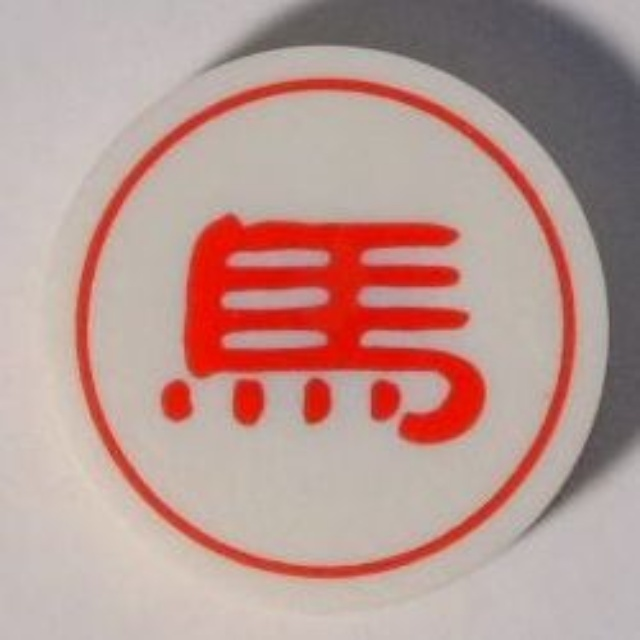red_ma: (23, 37, 633, 601)
